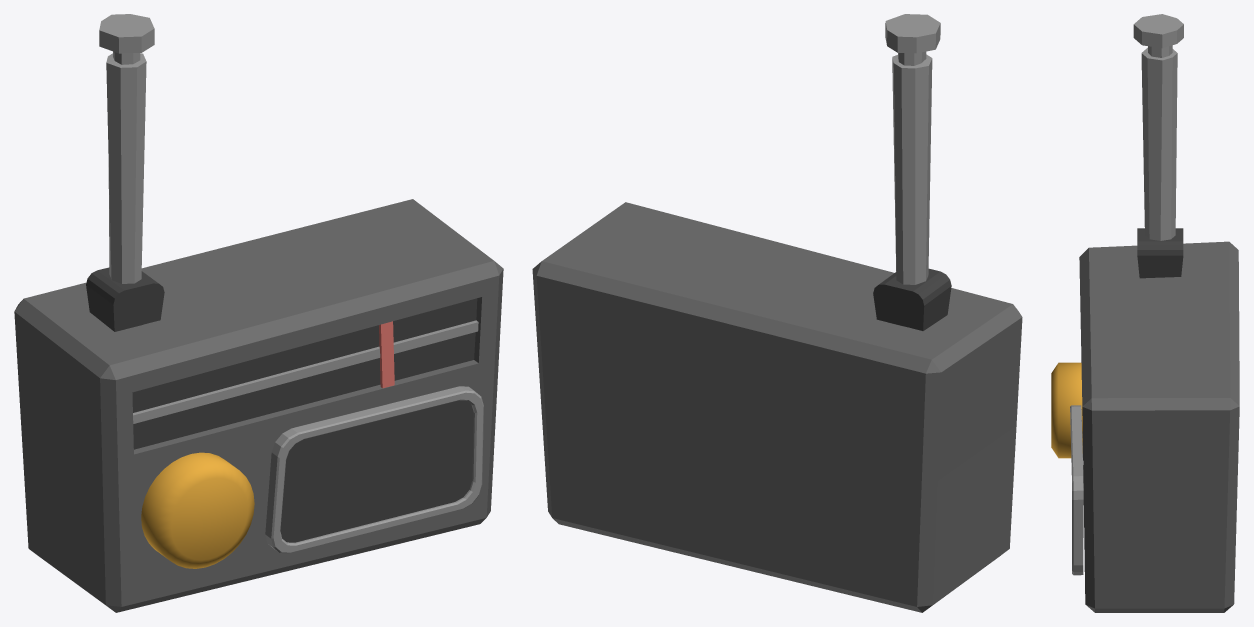
The model's file is radio.fbx.
3 renders of one model, left to right at view 1: azimuth 30°, elevation 25°; view 2: azimuth 150°, elevation 25°; view 3: azimuth 270°, elevation 25°, orthographic. The views are drawn at different scales.
Parts seen in each view (by area): view 1: Cube.058; view 2: Cube.058; view 3: Cube.058.
Part boxes in pixels (x1,y1,x2,y2): Cube.058: (14,14,503,612); Cube.058: (532,14,1022,612); Cube.058: (1051,14,1239,612).
Size of the model in its own units: 70.63 by 90.43 by 33.64.
